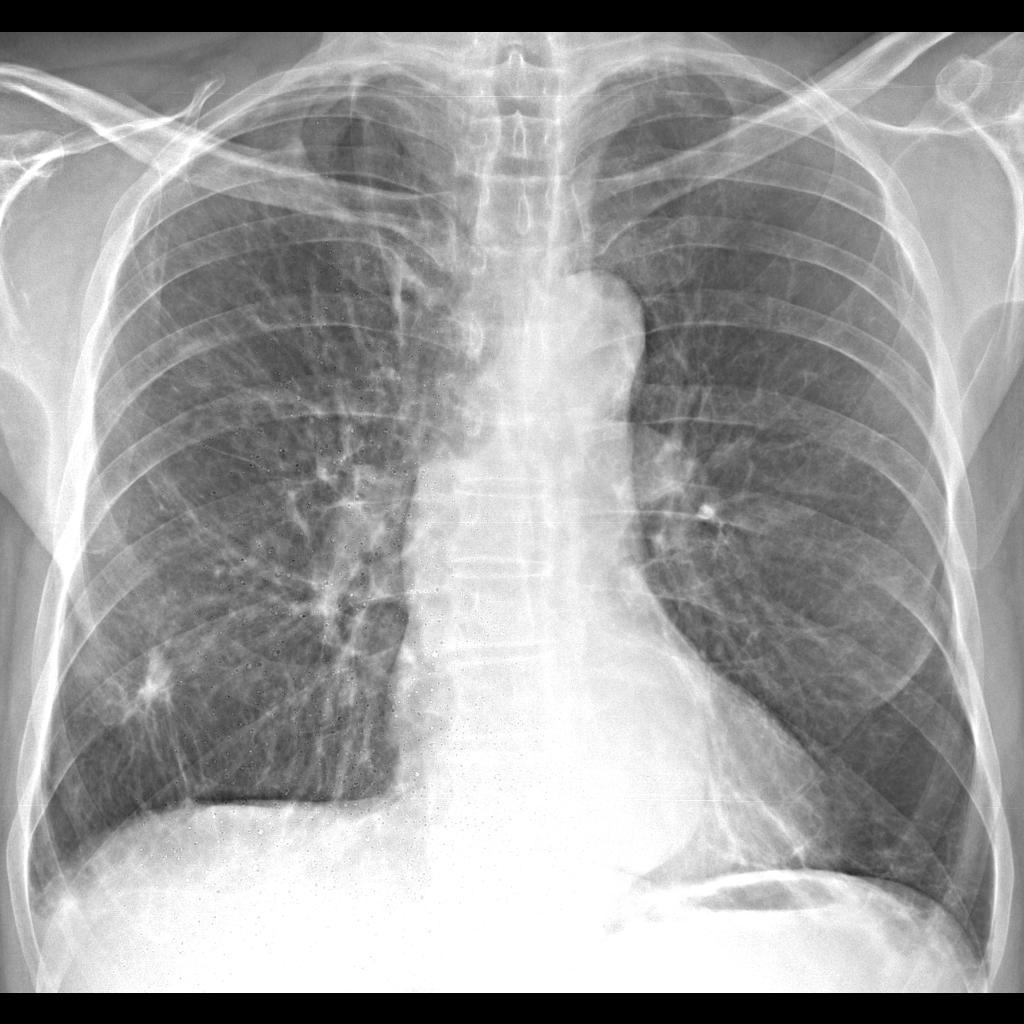Nodule: (104, 623, 194, 734)
